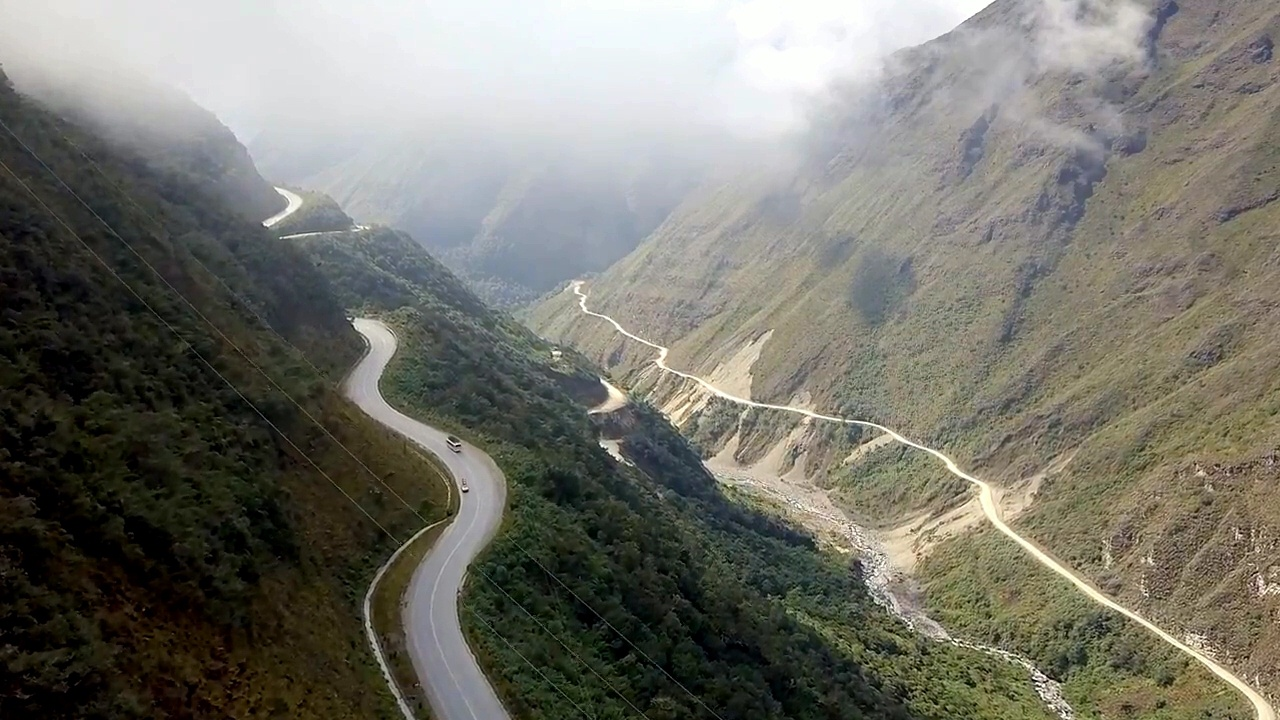otobus: (445, 435, 463, 453)
